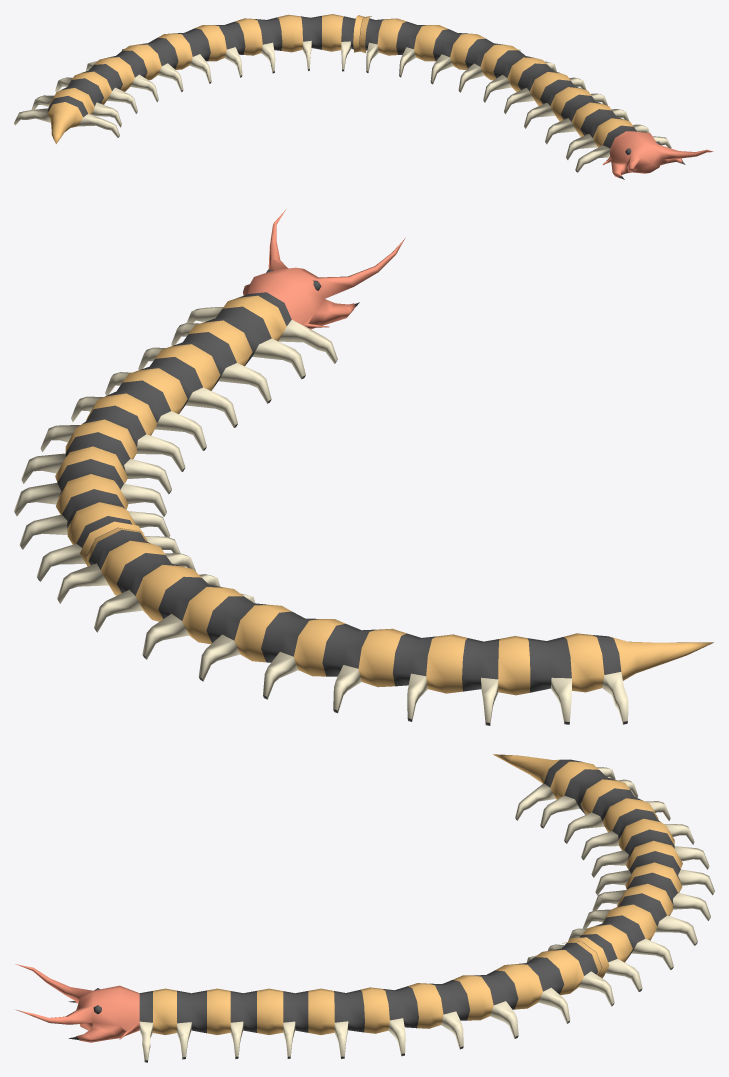
The model's file is bH2awp4l6AE.glb.
3 views of the same model, one above another, from view 1: azimuth 30°, elevation 25°; view 2: azimuth 150°, elevation 25°; view 3: azimuth 270°, elevation 25° (orthographic). The views are drawn at different scales.
Parts seen in each view (by area): view 1: Symmetry; view 2: Symmetry; view 3: Symmetry.
Boxes of the visible parts, x1,y1,x2,y2 form: Symmetry: (14,14,713,179); Symmetry: (14,209,713,725); Symmetry: (15,754,714,1062).
Size of the model in its own units: 12.56 by 0.9994 by 12.99.
